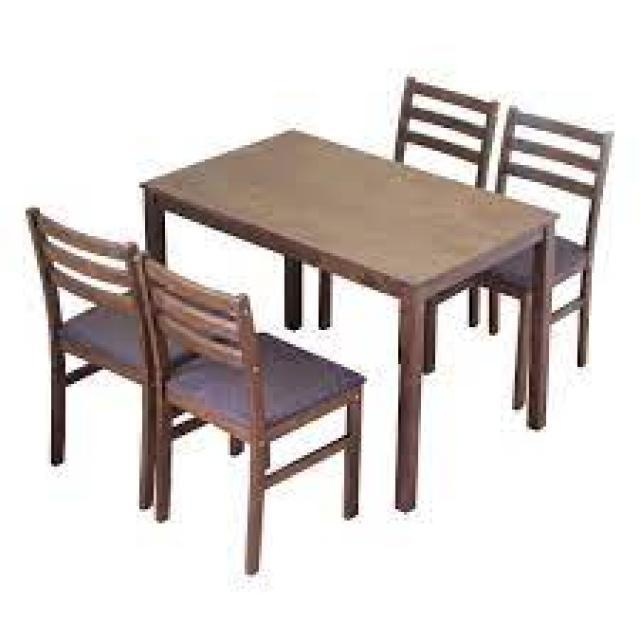table: (17, 64, 624, 578)
